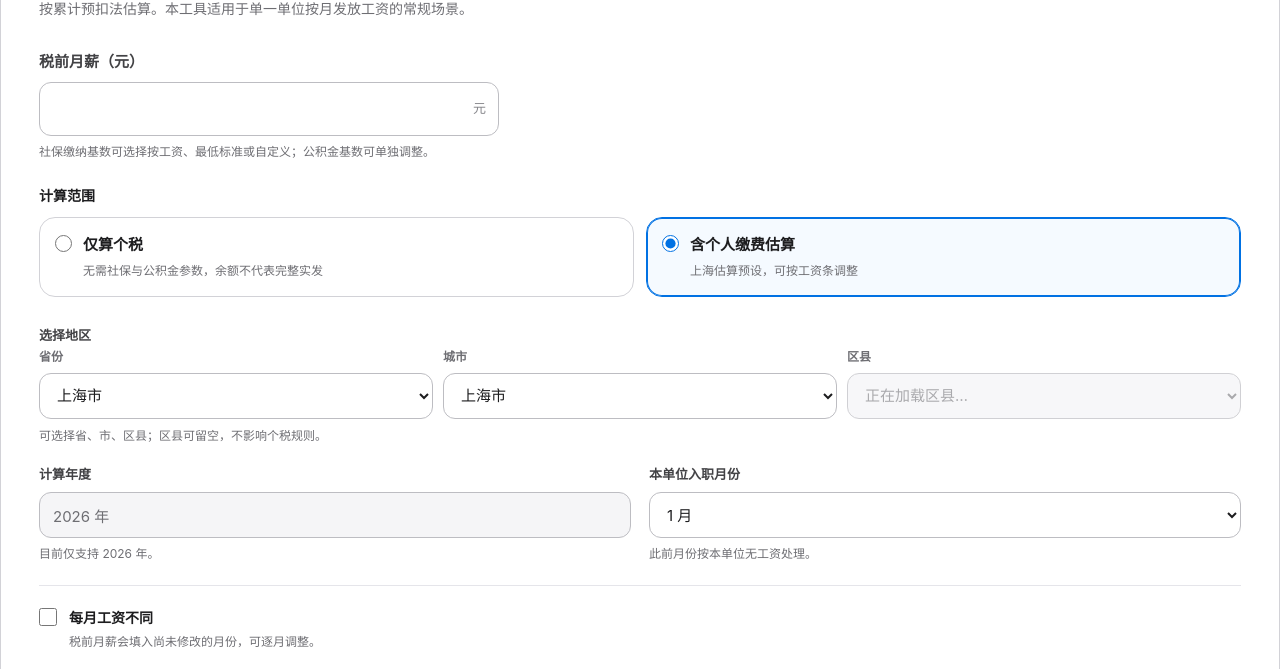
SalaryCalculator › shows when a custom Shanghai base is raised to the policy minimum
This screenshot has width=1280, height=669.
Type "8000" into the field labelled "税前月薪（元）" at (269, 109), box [39, 82, 499, 136]
(page scrolled)
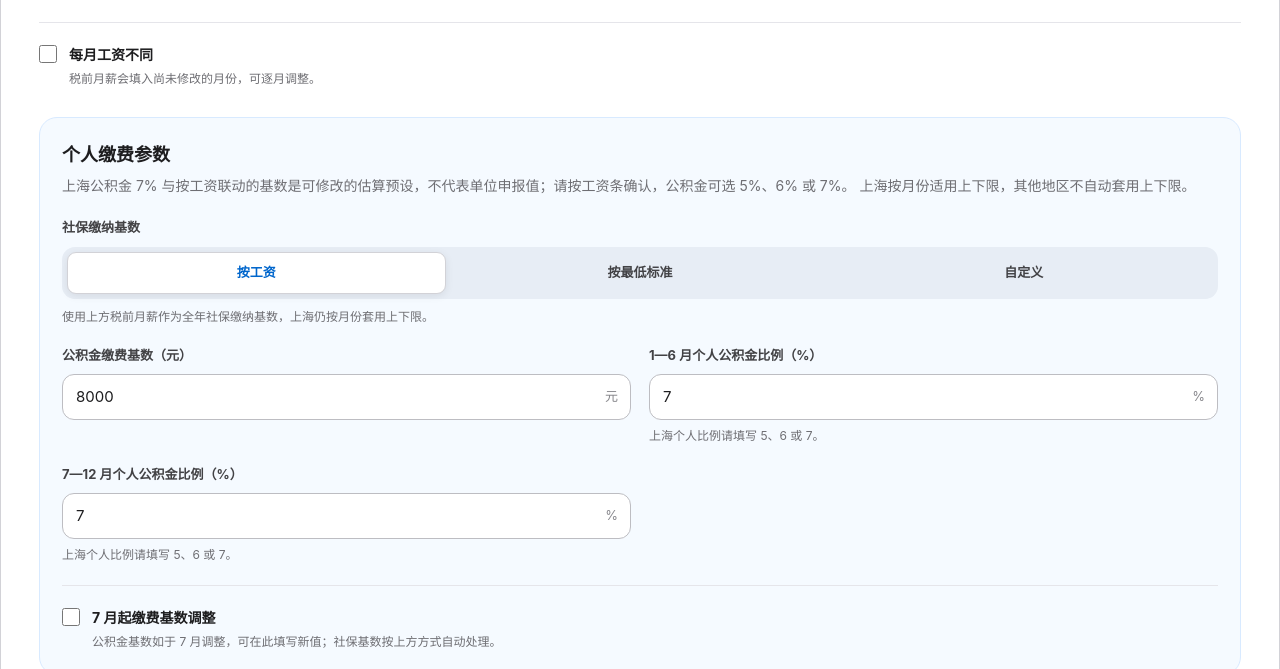
Click the radio button labelled "自定义" at (1024, 272), box [1004, 264, 1043, 280]
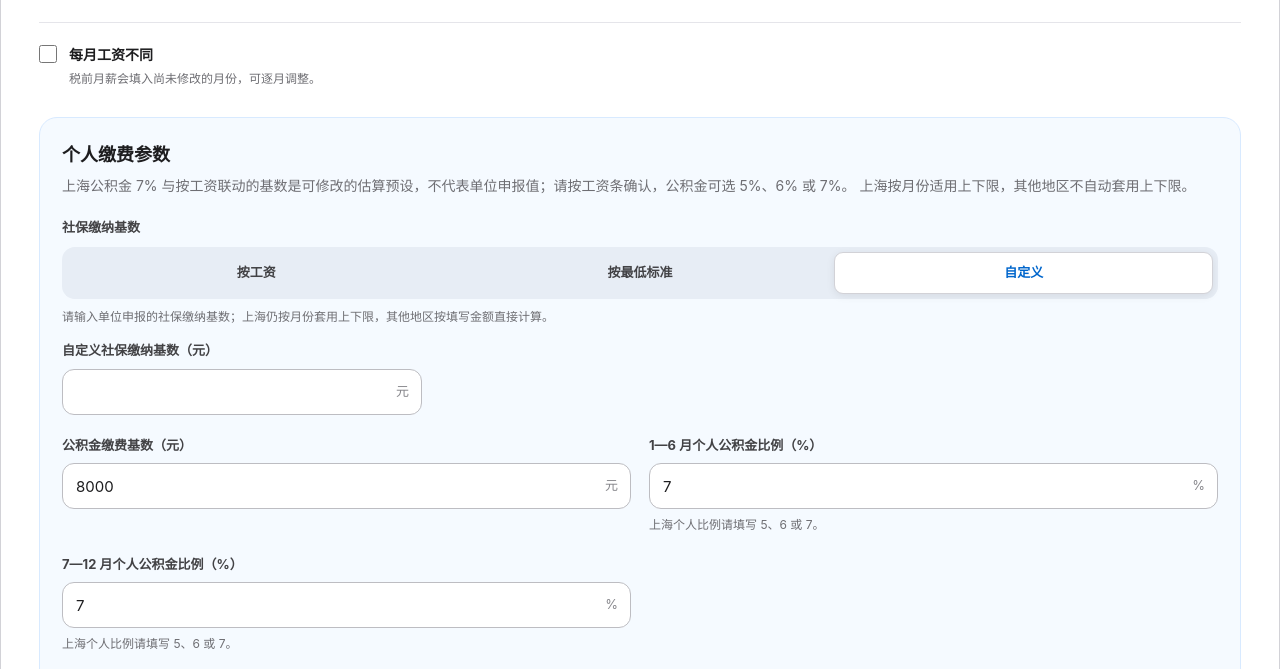
Type "1000" into the field labelled "自定义社保缴纳基数（元）" at (242, 392), box [62, 369, 422, 415]
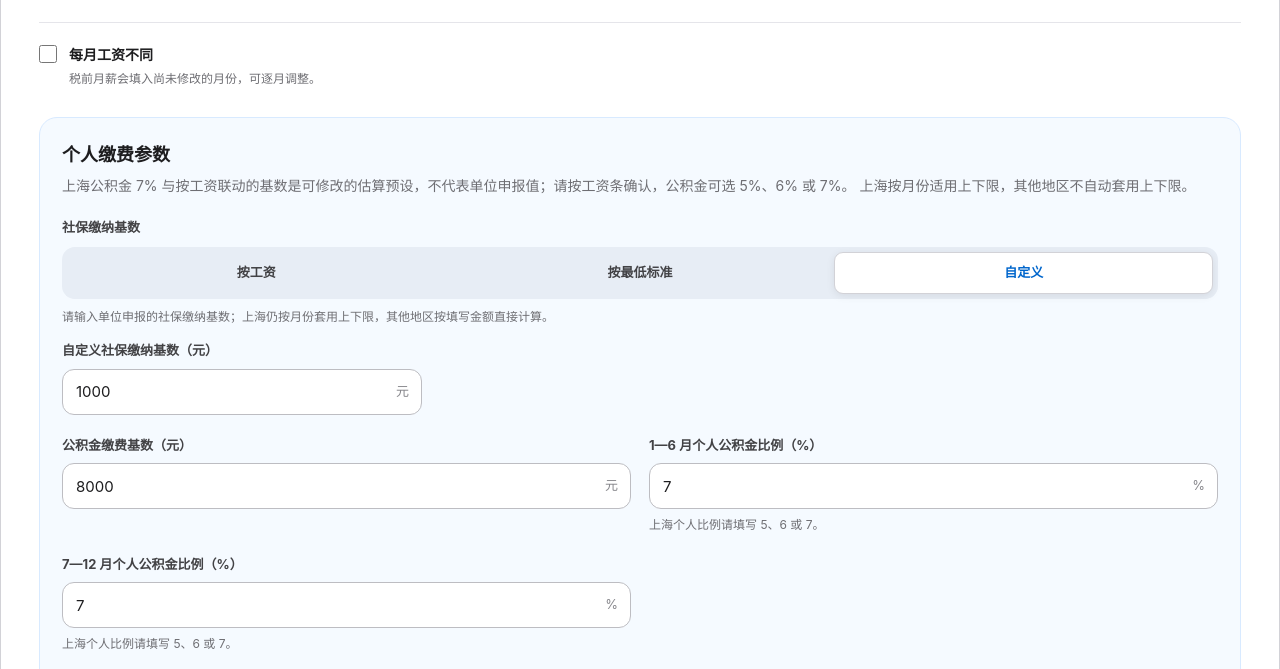
Replace the text in the field labelled "公积金缴费基数（元）" with "1000" at (346, 486), box [62, 463, 631, 509]
(page scrolled)
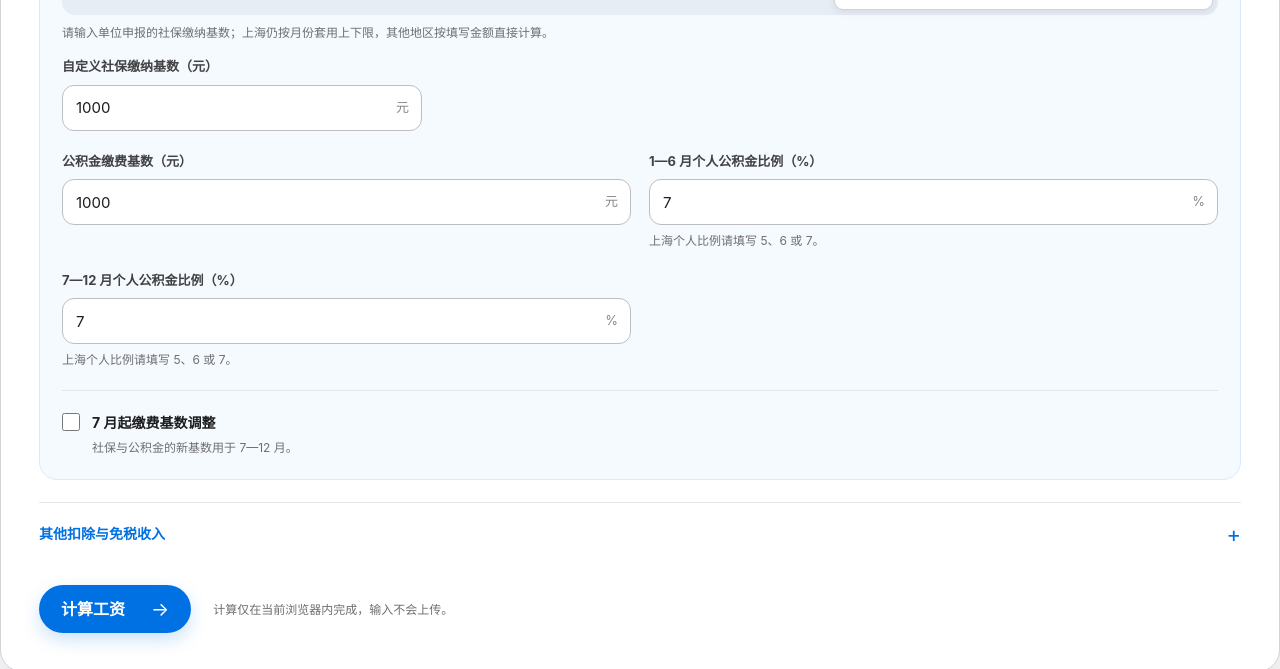
Click the button "计算工资 →" at (115, 609), box [39, 585, 191, 633]
(page scrolled)
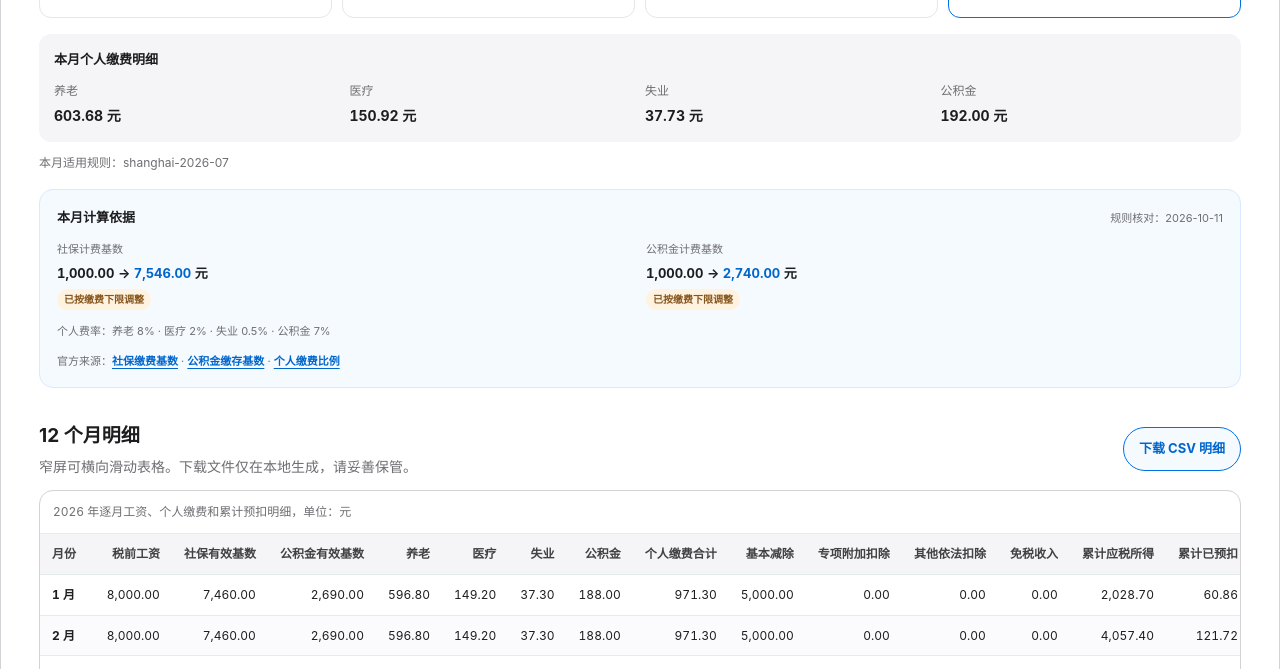
Expected: the text named "本月社保有效基数" reads "7,546.00", [134, 265, 191, 281]
Expected: the text named "本月公积金有效基数" reads "2,740.00", [723, 265, 780, 281]
Expected: the text "已按缴费下限调整" is shown 2 times, [57, 289, 151, 310]; [646, 289, 740, 310]
